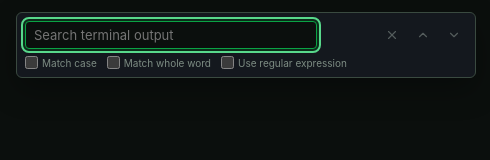
Scenario: TerminalSearchOverlay › shows a bounded invalid-pattern state and recovers after a valid regex
Click the checkbox labelled "Use regular expression".
click(227, 62)  # box [221,56,234,69]
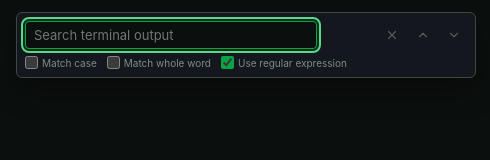
Type "[" into the search field labelled "Search terminal output".
click(171, 35); type("[")  # box [25,21,317,49]
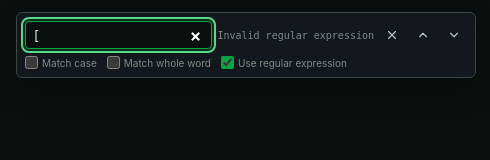
Check: the text "Invalid regular expression" is shown, box [218,30,374,40]
Replace the text in the search field named "Search terminal output" with "[a]" at (119, 35), box [25,21,212,49]
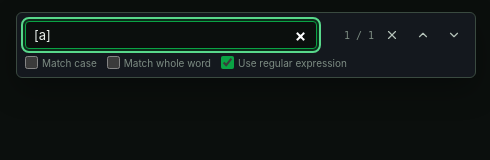
Check: the text "Invalid regular expression" is gone
Check: the text "1 / 1" is shown, box [344,30,374,40]
